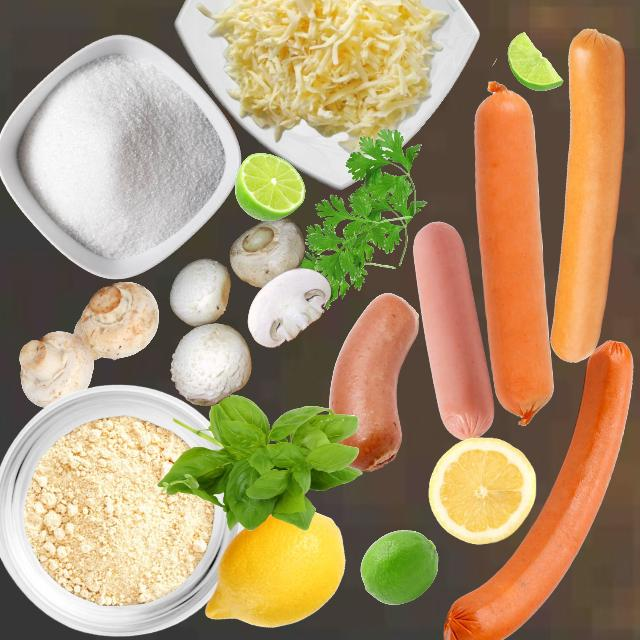Flour: (23, 414, 214, 606)
Sugar: (17, 52, 225, 260)
